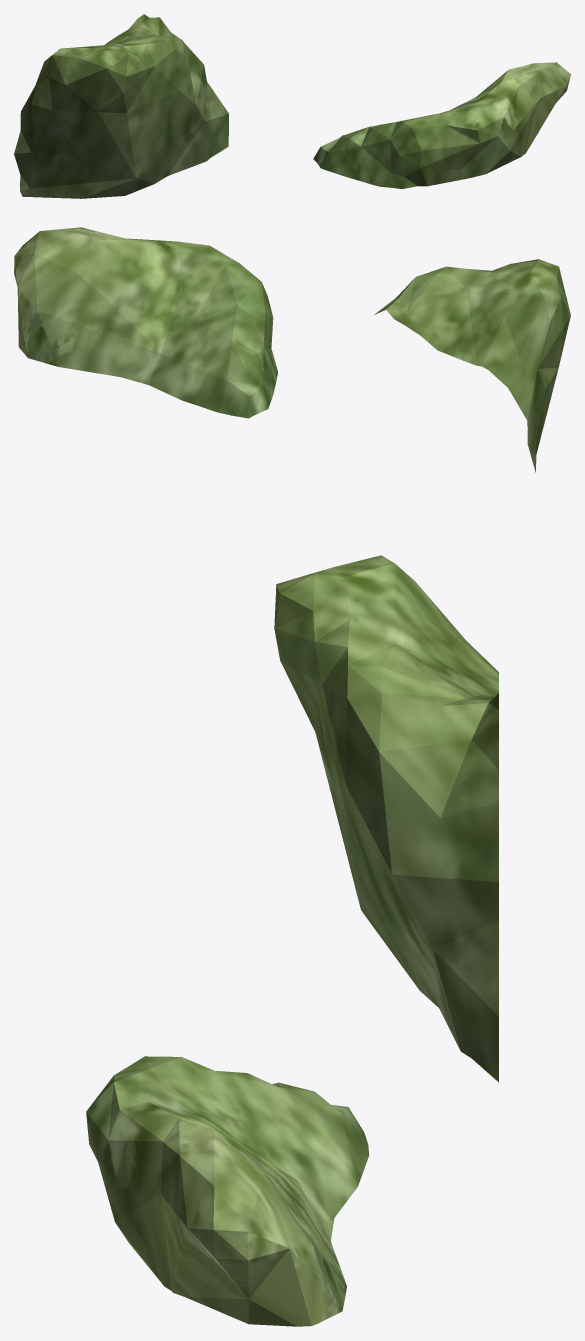
3 renders of one model, top to bottom at view 1: azimuth 30°, elevation 25°; view 2: azimuth 150°, elevation 25°; view 3: azimuth 270°, elevation 25°, orthographic. The views are drawn at different scales.
Bounding box in the file's own units: 2.61 × 0.8802 × 0.9602.
Materials: 1 (1 with a texture image).
